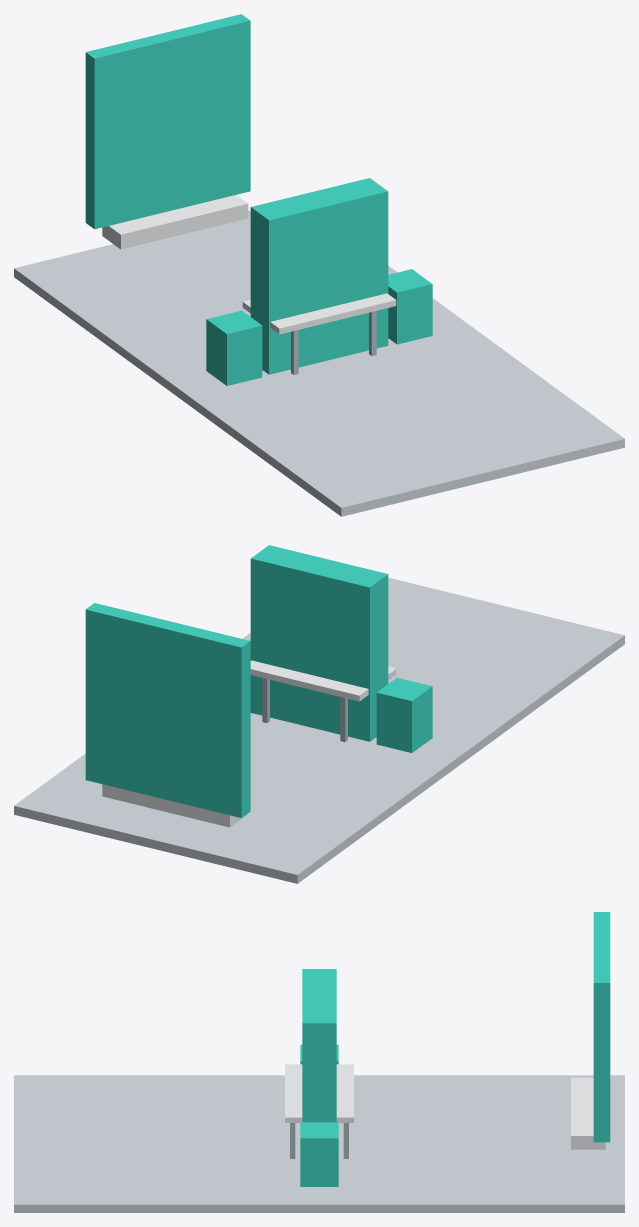
3 views of the same model, one above another, from view 1: azimuth 30°, elevation 25°; view 2: azimuth 150°, elevation 25°; view 3: azimuth 270°, elevation 25° (orthographic). The views are drawn at different scales.
Visible parts, largest first — view 1: Exhibition Booth Concept; view 2: Exhibition Booth Concept; view 3: Exhibition Booth Concept.
Boxes of the visible parts, left/top/right/bottom form: Exhibition Booth Concept: left=14, top=14, right=624, bottom=516; Exhibition Booth Concept: left=14, top=545, right=624, bottom=883; Exhibition Booth Concept: left=14, top=912, right=624, bottom=1212.
Bounding box in the file's own units: 4 × 2.9 × 8.
